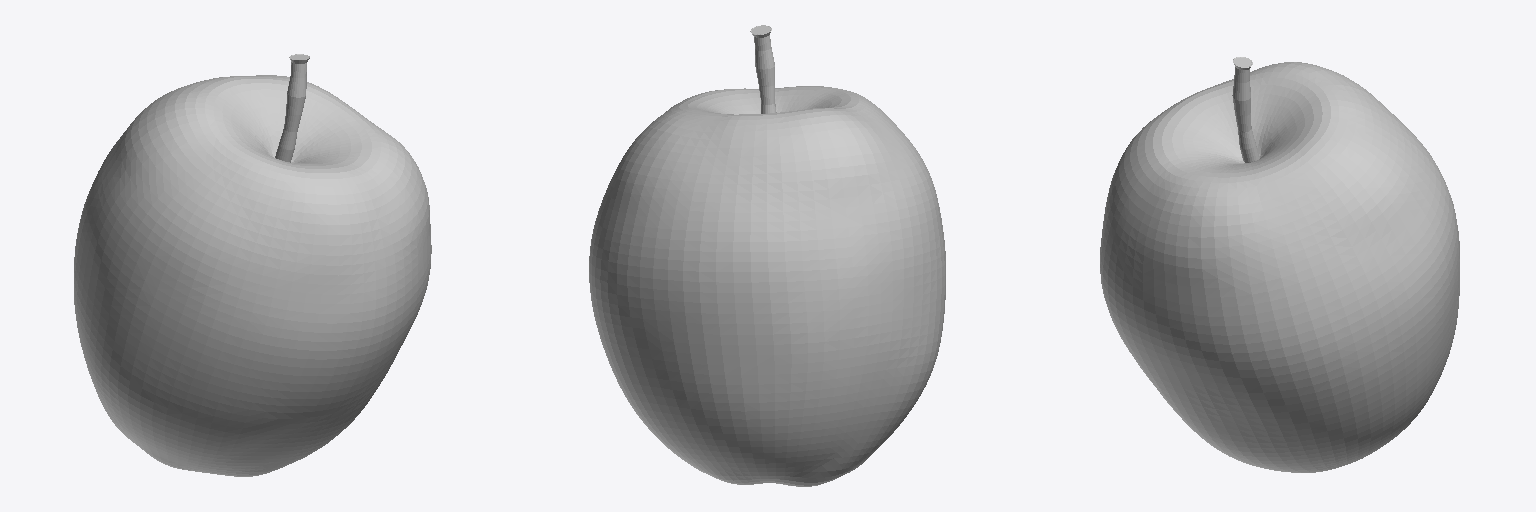
File: apple.obj
The picture shows the model from 3 angles: view 1: azimuth 30°, elevation 25°; view 2: azimuth 150°, elevation 25°; view 3: azimuth 270°, elevation 25°; orthographic projection.
Parts seen in each view (by area): view 1: apple.001; view 2: apple.001; view 3: apple.001.
Part boxes in pixels (x1,y1,x2,y2): apple.001: (74,54,431,476); apple.001: (589,25,945,486); apple.001: (1100,57,1459,472).
Size of the model in its own units: 1.47 by 1.88 by 1.48.